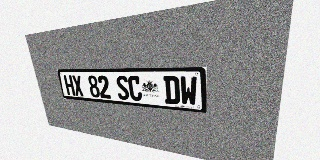2: (97, 75, 111, 99)
8: (87, 75, 100, 98)
C: (127, 76, 143, 101)
D: (163, 76, 180, 105)
H: (63, 75, 75, 96)
S: (115, 76, 130, 100)
W: (180, 76, 197, 106)
X: (72, 75, 84, 96)
